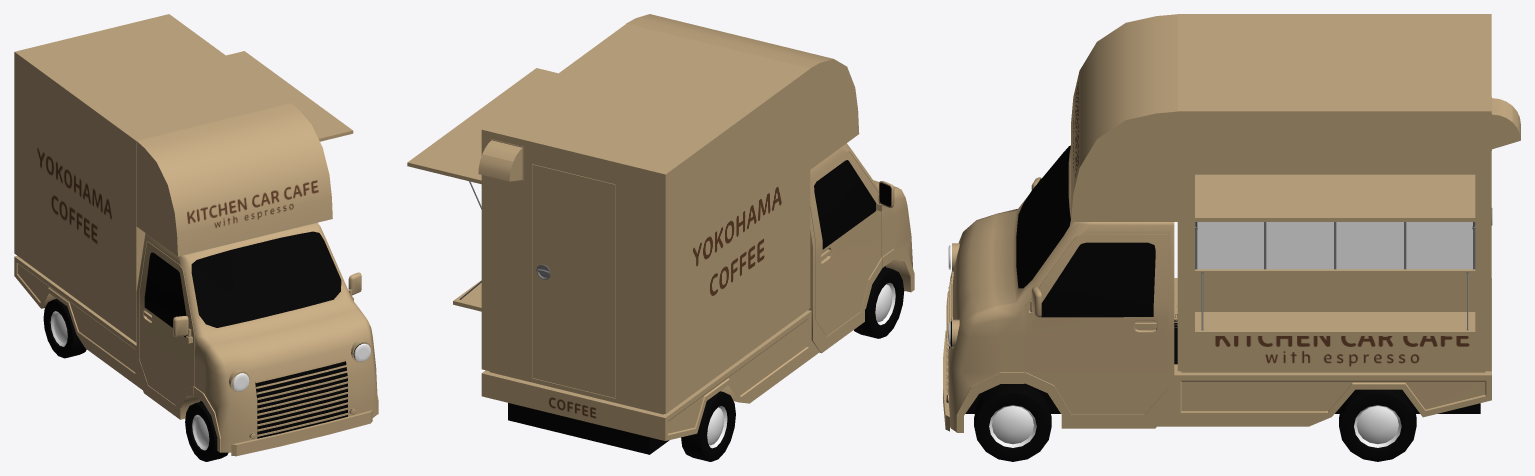
Rendered from 57kitchencar.glb.
The picture shows the model from 3 angles, left to right: view 1: azimuth 30°, elevation 25°; view 2: azimuth 150°, elevation 25°; view 3: azimuth 270°, elevation 25°; orthographic projection. The views are drawn at different scales.
Parts seen in each view (by area): view 1: KitchenCar; view 2: KitchenCar; view 3: KitchenCar.
Boxes of the visible parts, x1,y1,x2,y2 form: KitchenCar: (14,14,378,461); KitchenCar: (407,14,914,461); KitchenCar: (943,14,1520,461).
Size of the model in its own units: 2.39 by 2.6 by 3.87.
9 materials, 9 textured.
